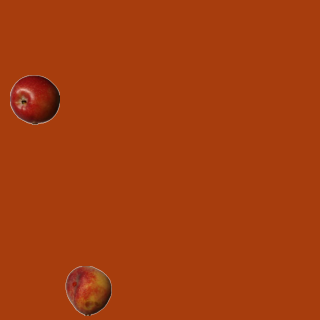Apple Braeburn: (9, 74, 59, 124)
Peach: (63, 265, 113, 315)
